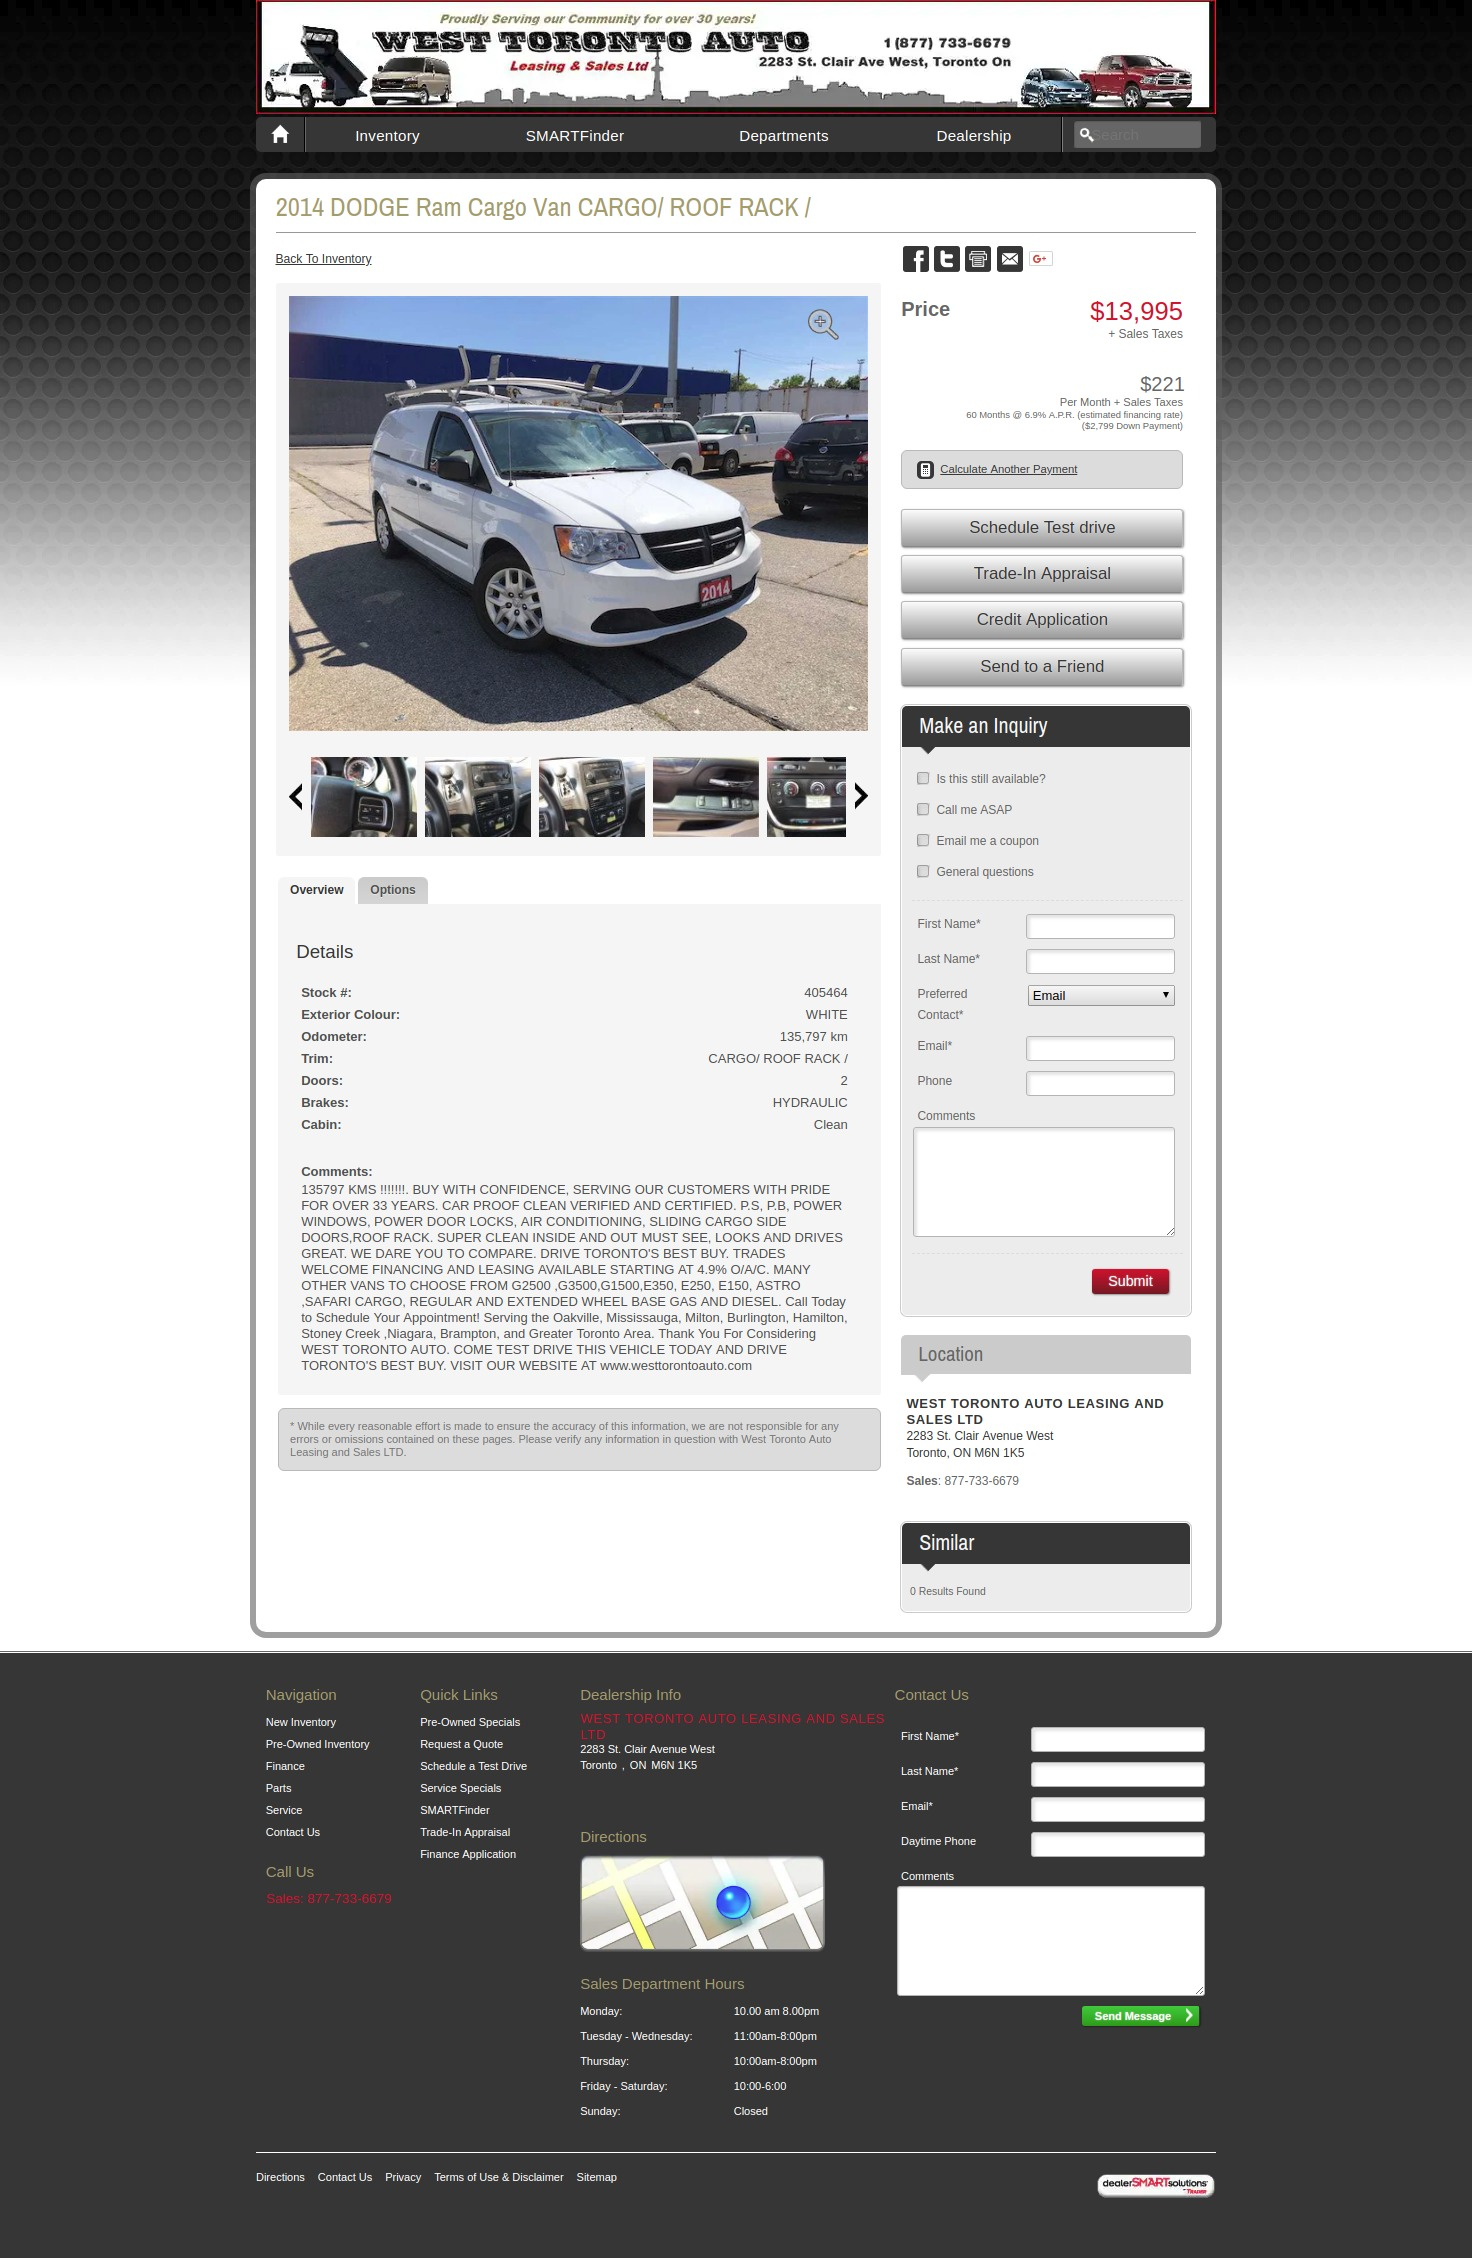car: (855, 782, 869, 811)
